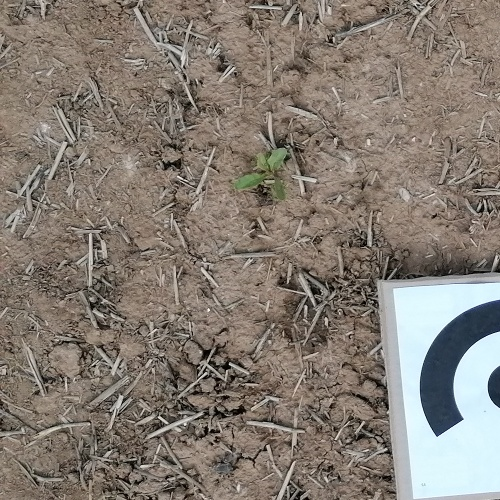beet: (235, 150, 287, 200)
